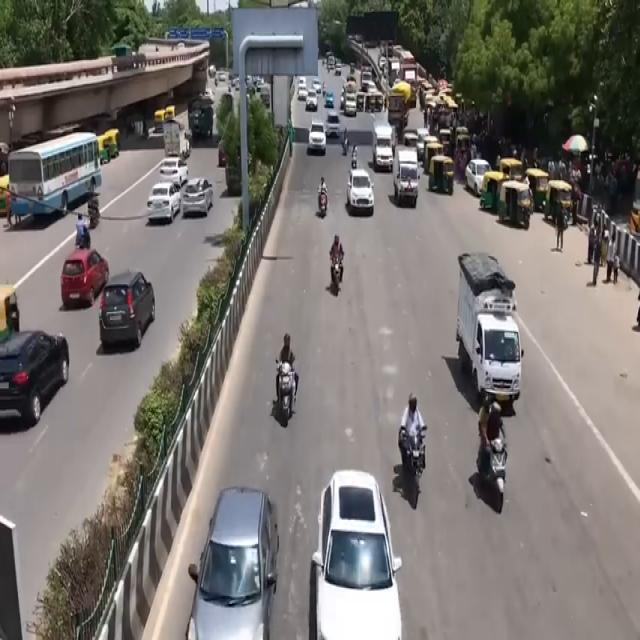BUS: (8, 130, 104, 227)
MOTORCYCLE: (481, 438, 506, 508), (405, 436, 422, 509), (278, 360, 294, 434), (331, 265, 347, 301)
SED: (59, 248, 111, 310), (179, 180, 214, 223), (148, 177, 179, 225)
SUV: (1, 324, 68, 428), (100, 270, 156, 353), (346, 170, 374, 217)
TRUCK: (457, 254, 523, 412), (390, 148, 420, 203), (372, 119, 393, 174)
